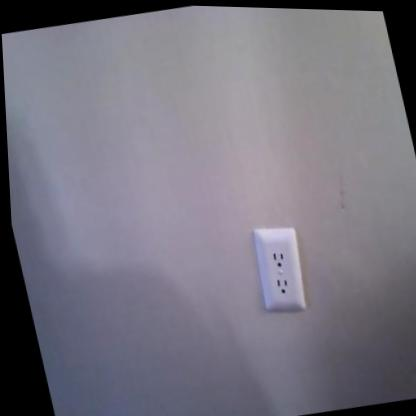OUTLET: (247, 221, 313, 317)
